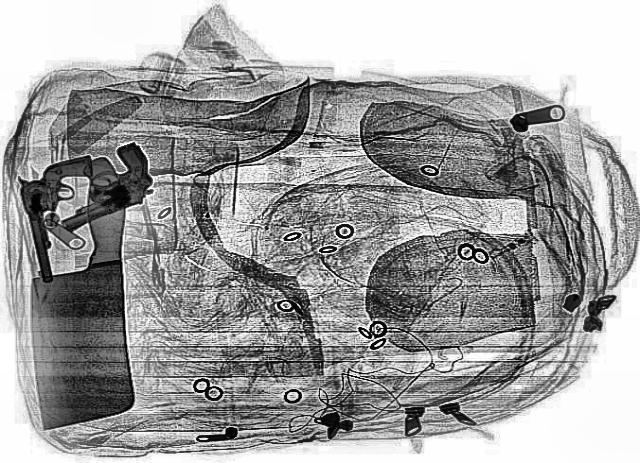Gun: (24, 140, 178, 232), (10, 154, 116, 284)
Knife: (17, 167, 138, 429)
